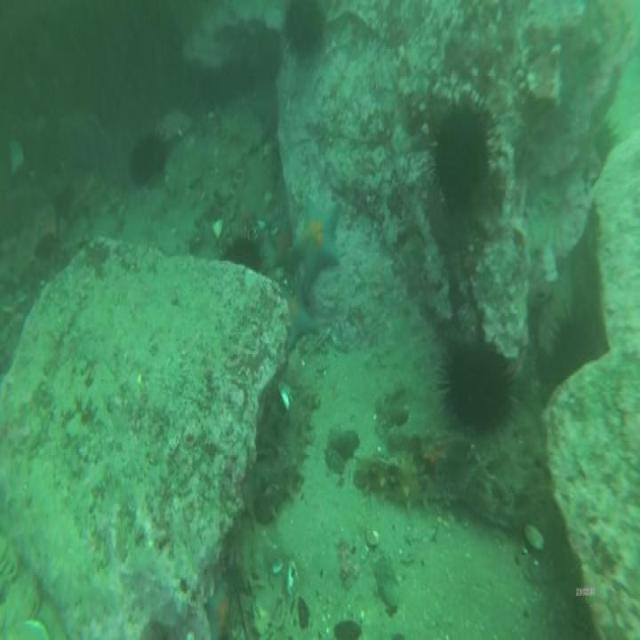echinus: (444, 344, 512, 432), (437, 108, 487, 208), (552, 318, 598, 373), (284, 3, 324, 54), (131, 134, 165, 180), (224, 235, 263, 272), (258, 33, 280, 76), (534, 350, 551, 382)
holothurian: (258, 387, 318, 525), (354, 455, 444, 509)
scallop: (278, 379, 294, 408), (212, 216, 224, 244), (366, 528, 382, 545)
starfish: (291, 201, 342, 278), (206, 580, 230, 640), (287, 297, 313, 349)
